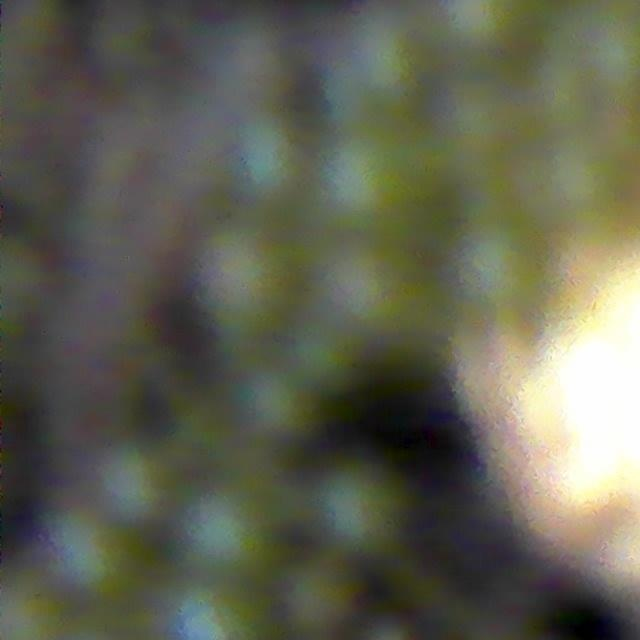SeaGrape: (310, 138, 437, 238), (303, 453, 414, 564), (172, 478, 277, 589), (192, 224, 294, 331), (326, 21, 426, 121), (530, 117, 630, 217), (40, 506, 140, 605), (454, 219, 549, 311), (87, 436, 176, 530), (273, 556, 363, 640), (343, 251, 430, 337), (229, 115, 305, 203), (231, 365, 313, 444), (563, 10, 640, 91), (464, 124, 524, 217), (284, 331, 377, 384), (0, 588, 68, 640)
